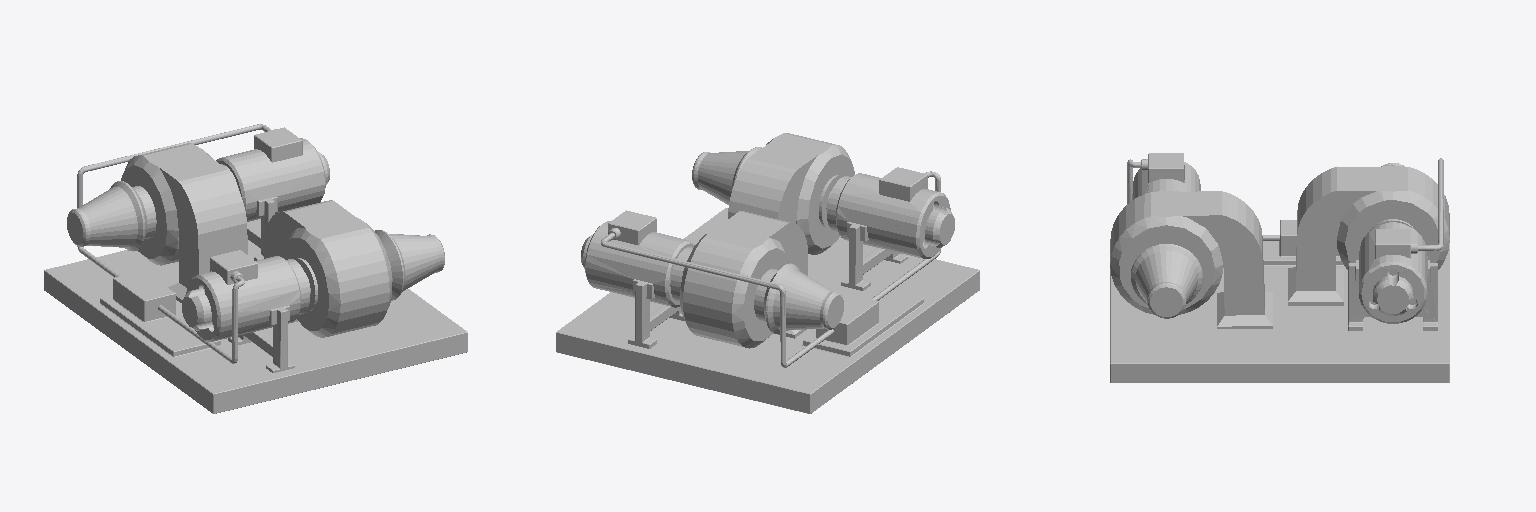
File: EX_FAN.obj
3 views of the same model, side by side, from view 1: azimuth 30°, elevation 25°; view 2: azimuth 150°, elevation 25°; view 3: azimuth 270°, elevation 25° (orthographic).
Visible parts, largest first — view 1: Cylinder.001_Cylinder.002; view 2: Cylinder.001_Cylinder.002; view 3: Cylinder.001_Cylinder.002.
Part boxes in pixels (x1,y1,x2,y2): Cylinder.001_Cylinder.002: (44,124,467,413); Cylinder.001_Cylinder.002: (556,133,979,413); Cylinder.001_Cylinder.002: (1110,153,1449,382).
Bounding box in the file's own units: 5.2 × 2.55 × 6.